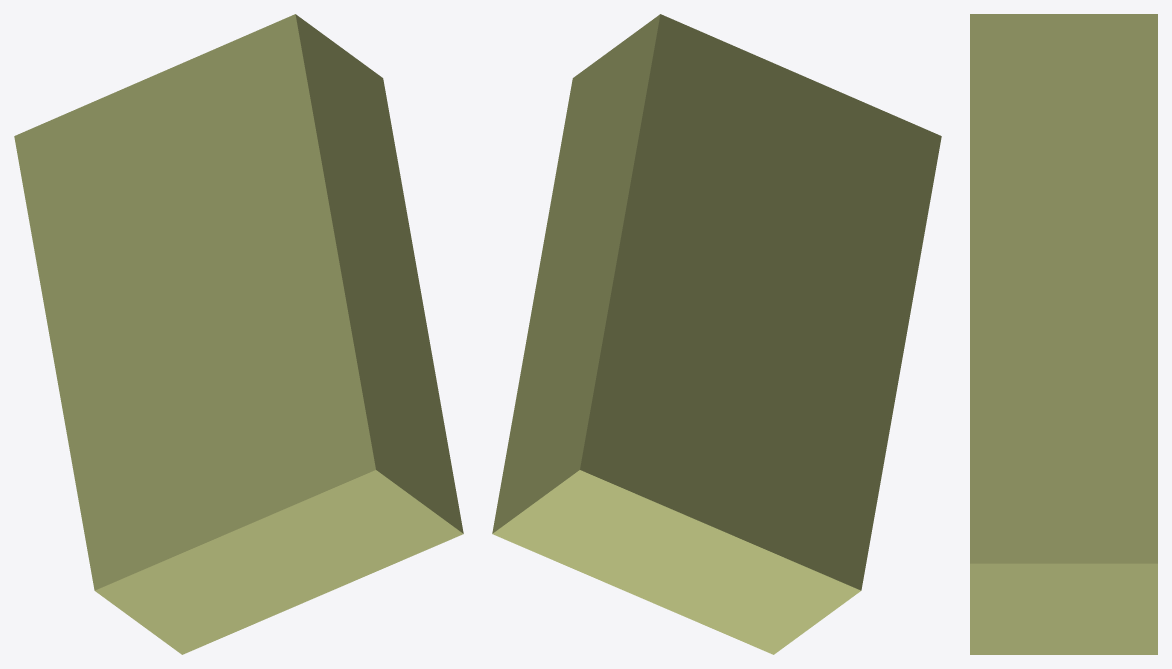
3 views of the same model, side by side, from view 1: azimuth 30°, elevation 25°; view 2: azimuth 150°, elevation 25°; view 3: azimuth 270°, elevation 25° (orthographic). The views are drawn at different scales.
Visible parts, largest first — view 1: 0_2_0_1_1_1_2_2_1_1; view 2: 0_2_0_1_1_1_2_2_1_1; view 3: 0_2_0_1_1_1_2_2_1_1.
Boxes of the visible parts, x1,y1,x2,y2 form: 0_2_0_1_1_1_2_2_1_1: (14, 14, 463, 654); 0_2_0_1_1_1_2_2_1_1: (492, 14, 941, 654); 0_2_0_1_1_1_2_2_1_1: (970, 14, 1157, 654).
Size of the model in its own units: 14.29 by 19.92 by 6.
